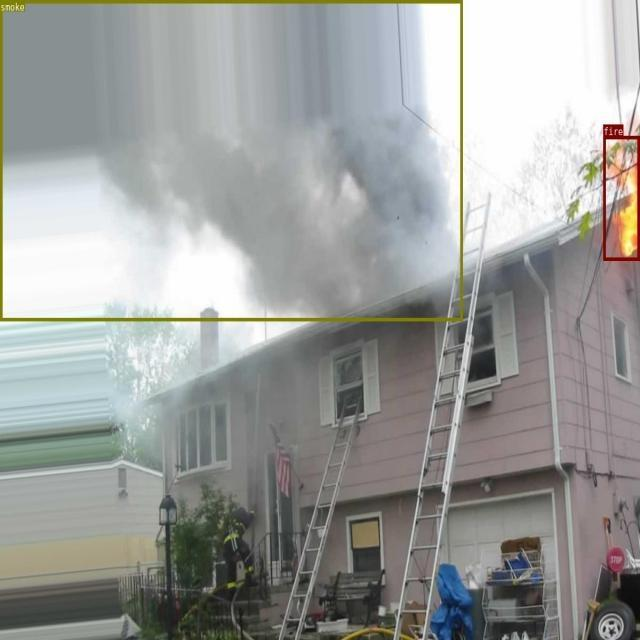fire: (603, 136, 639, 260)
smoke: (0, 0, 462, 320)
